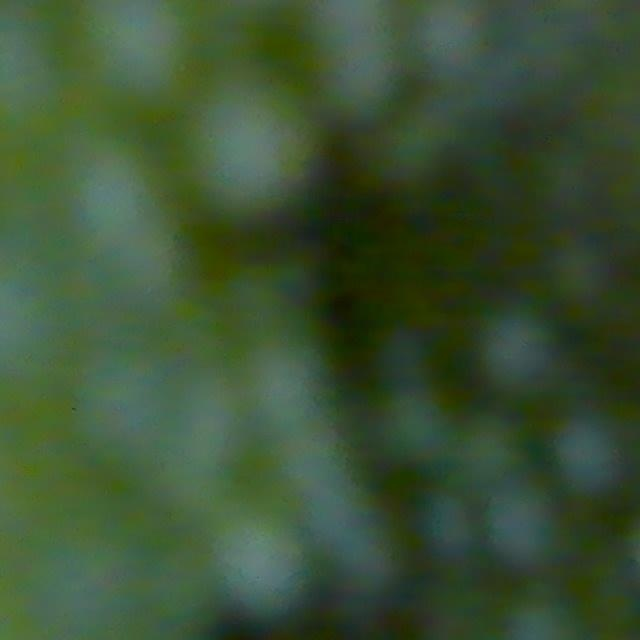SeaGrape: (31, 128, 156, 266), (71, 0, 215, 112), (191, 82, 312, 212), (205, 503, 310, 618), (0, 254, 75, 393), (374, 383, 462, 469), (319, 35, 402, 123), (549, 417, 634, 501), (406, 0, 499, 73), (477, 314, 558, 390), (451, 410, 528, 489), (490, 491, 561, 573), (506, 583, 595, 640), (416, 492, 480, 559)
